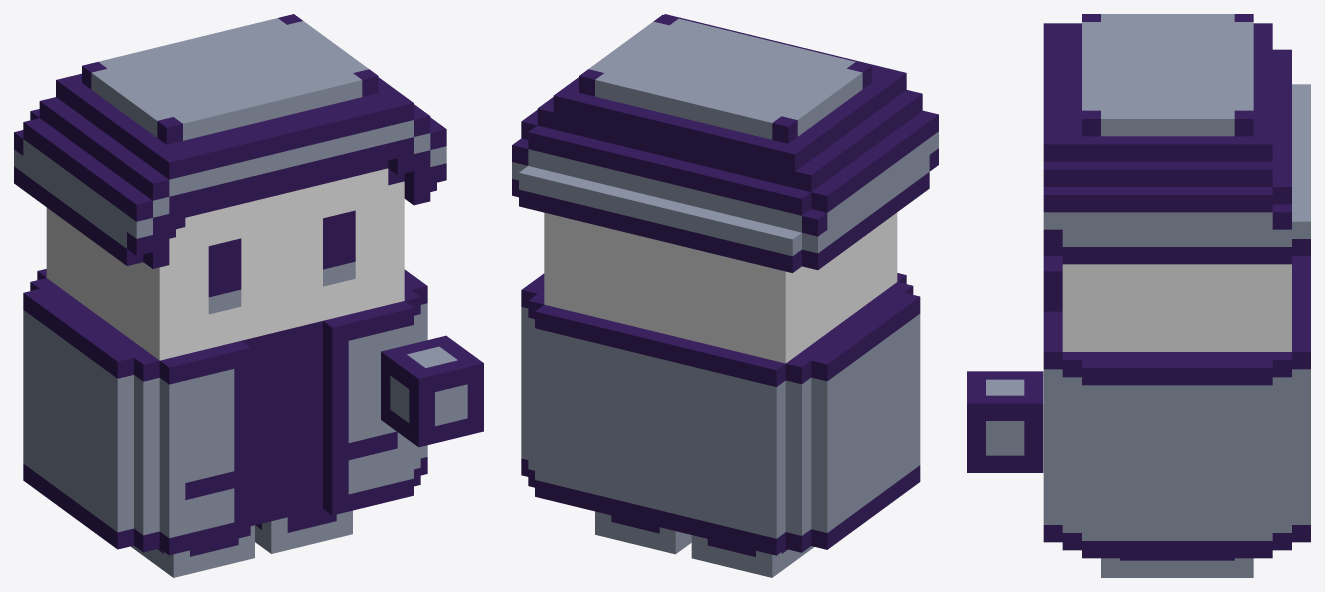
The model's file is p3_grab.gltf.
3 views of the same model, side by side, from view 1: azimuth 30°, elevation 25°; view 2: azimuth 150°, elevation 25°; view 3: azimuth 270°, elevation 25° (orthographic). The views are drawn at different scales.
Visible parts, largest first — view 1: Object_0.001, Object_0; view 2: Object_0.001; view 3: Object_0.001, Object_0.
Boxes of the visible parts, x1,y1,x2,y2 form: Object_0.001: [14, 14, 446, 577]; Object_0: [381, 335, 483, 447]; Object_0.001: [512, 14, 938, 577]; Object_0.001: [1043, 14, 1310, 577]; Object_0: [967, 371, 1043, 472].
Bounding box in the file's own units: 1.9 × 2.7 × 1.8.
2 materials, 2 textured.
